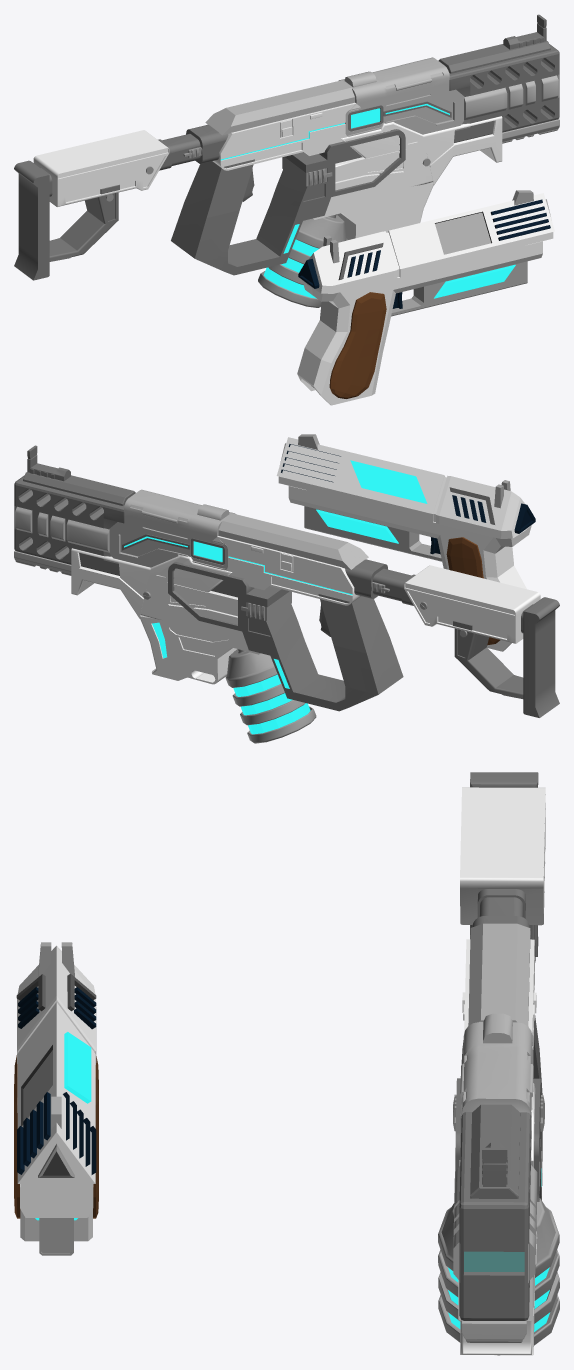
File: gun.glb
3 views of the same model, one above another, from view 1: azimuth 30°, elevation 25°; view 2: azimuth 150°, elevation 25°; view 3: azimuth 270°, elevation 25° (orthographic). The views are drawn at different scales.
Parts seen in each view (by area): view 1: Pistol, triggerGaurd_GEO_0001, frameRail_GEO_0001, boady_GEO_0001, GEO_0001, slide_GEO_0001, body_GEO_0001, polymerFrame_GEO_0001, reciever_GEO_0001, shoulderRest_GEO_0001, chemicalMag_GEO_0001, shoulderRest_GEO_0002 (+7 smaller); view 2: Pistol, triggerGaurd_GEO_0001, frameRail_GEO_0001, boady_GEO_0001, GEO_0001, slide_GEO_0001, polymerFrame_GEO_0001, chemicalMag_GEO_0001, body_GEO_0001, shoulderRest_GEO_0001, reciever_GEO_0001, shoulderRest_GEO_0002 (+8 smaller); view 3: Pistol, frameRail_GEO_0001, GEO_0001, slide_GEO_0001, reciever_GEO_0001, chemicalMag_GEO_0001, triggerGaurd_GEO_0001, frameRail_GEO_0002, handGrip_GEO_0001, polymerFrame_GEO_0001, shoulderRest_GEO_0001, body_GEO_0001 (+2 smaller).
Boxes of the visible parts, <box> form: Pistol: <box>297,190,554,405</box>; triggerGaurd_GEO_0001: <box>171,129,405,275</box>; frameRail_GEO_0001: <box>438,41,559,142</box>; boady_GEO_0001: <box>335,116,502,191</box>; GEO_0001: <box>33,130,169,206</box>; slide_GEO_0001: <box>338,57,464,136</box>; body_GEO_0001: <box>212,102,360,170</box>; polymerFrame_GEO_0001: <box>313,183,433,240</box>; reciever_GEO_0001: <box>205,80,354,135</box>; shoulderRest_GEO_0001: <box>14,160,49,280</box>; chemicalMag_GEO_0001: <box>258,214,346,307</box>; shoulderRest_GEO_0002: <box>49,184,119,261</box>; Pistol: <box>276,434,535,651</box>; triggerGaurd_GEO_0001: <box>168,562,403,711</box>; frameRail_GEO_0001: <box>14,472,135,575</box>; boady_GEO_0001: <box>71,548,237,625</box>; GEO_0001: <box>404,565,540,643</box>; slide_GEO_0001: <box>109,489,235,570</box>; polymerFrame_GEO_0001: <box>140,616,260,684</box>; chemicalMag_GEO_0001: <box>225,649,316,743</box>; body_GEO_0001: <box>213,536,360,605</box>; shoulderRest_GEO_0001: <box>523,597,559,717</box>; reciever_GEO_0001: <box>218,513,368,569</box>; shoulderRest_GEO_0002: <box>453,621,523,698</box>; Pistol: <box>14,942,98,1255</box>; frameRail_GEO_0001: <box>459,1104,531,1320</box>; GEO_0001: <box>460,787,545,925</box>; slide_GEO_0001: <box>459,1013,533,1167</box>; reciever_GEO_0001: <box>468,923,530,1026</box>; chemicalMag_GEO_0001: <box>438,1198,559,1355</box>; triggerGaurd_GEO_0001: <box>455,1015,542,1201</box>; frameRail_GEO_0002: <box>453,1165,537,1282</box>; handGrip_GEO_0001: <box>461,1320,526,1342</box>; polymerFrame_GEO_0001: <box>460,1275,534,1355</box>; shoulderRest_GEO_0001: <box>470,772,538,956</box>; body_GEO_0001: <box>462,939,536,1064</box>.
Size of the model in its own units: 1.16 by 0.4827 by 0.6067.
